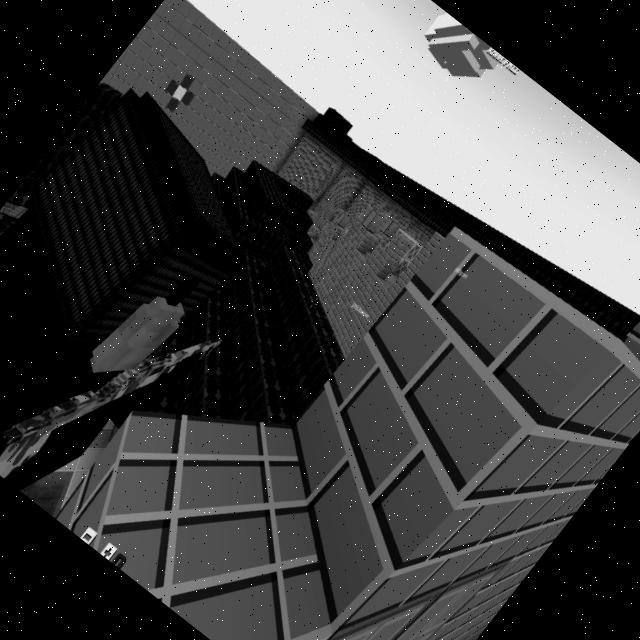Head: (0, 74, 293, 445)
Player: (0, 58, 321, 533)
